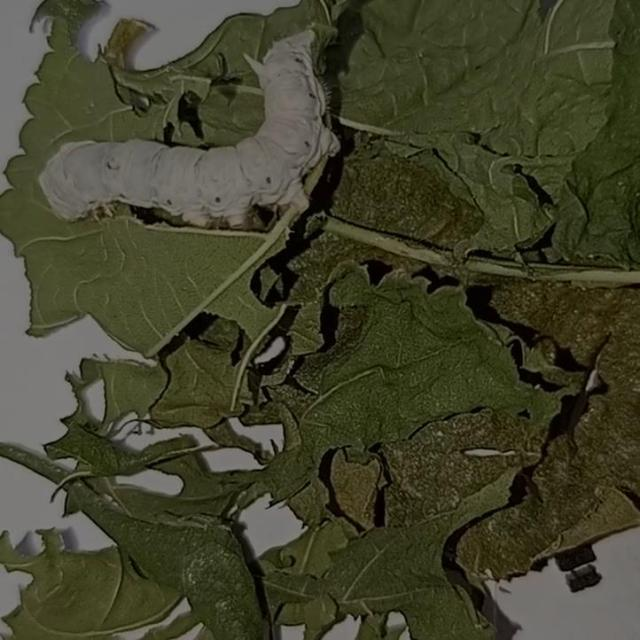Healthy: (22, 1, 364, 282)
